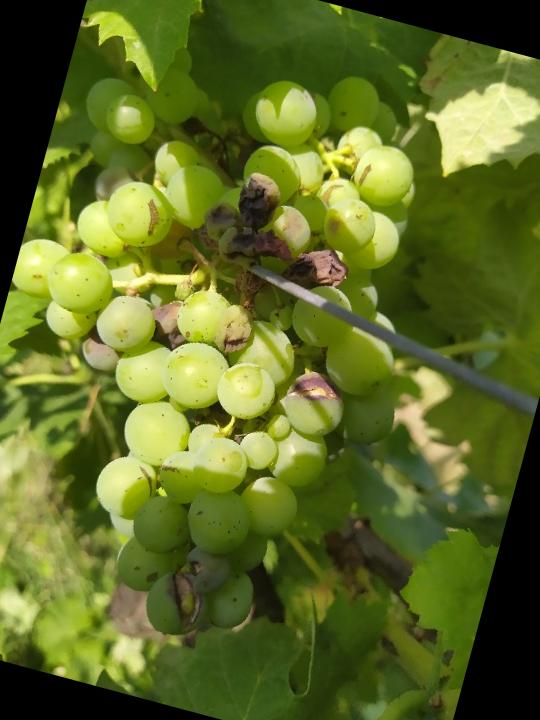grape: (0, 3, 481, 685)
